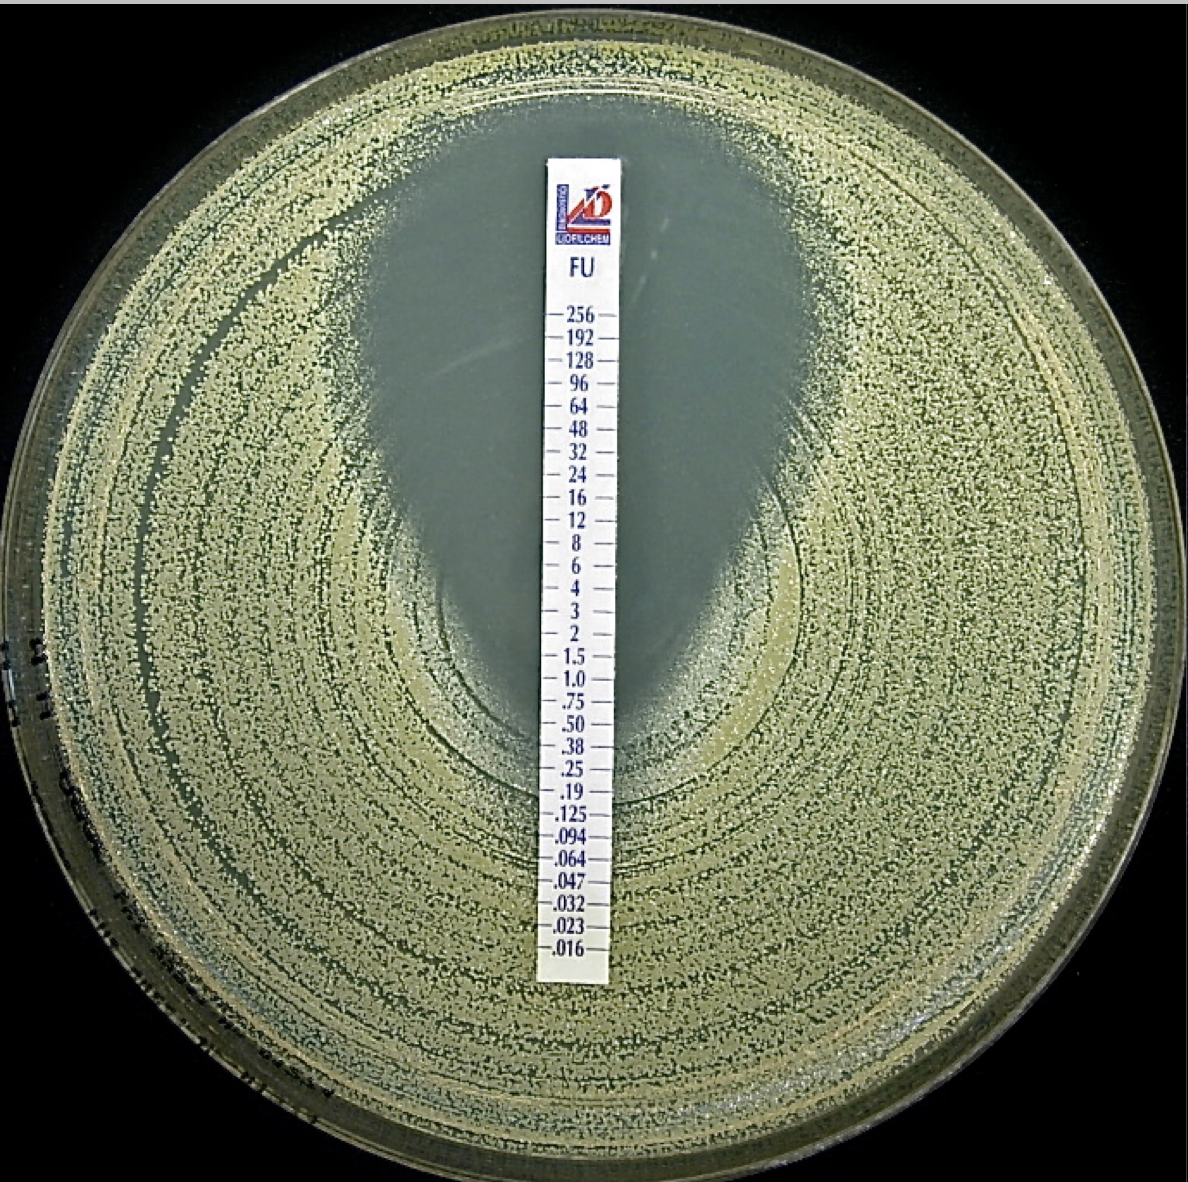line: (532, 158, 624, 986)
zone: (367, 94, 809, 735)
